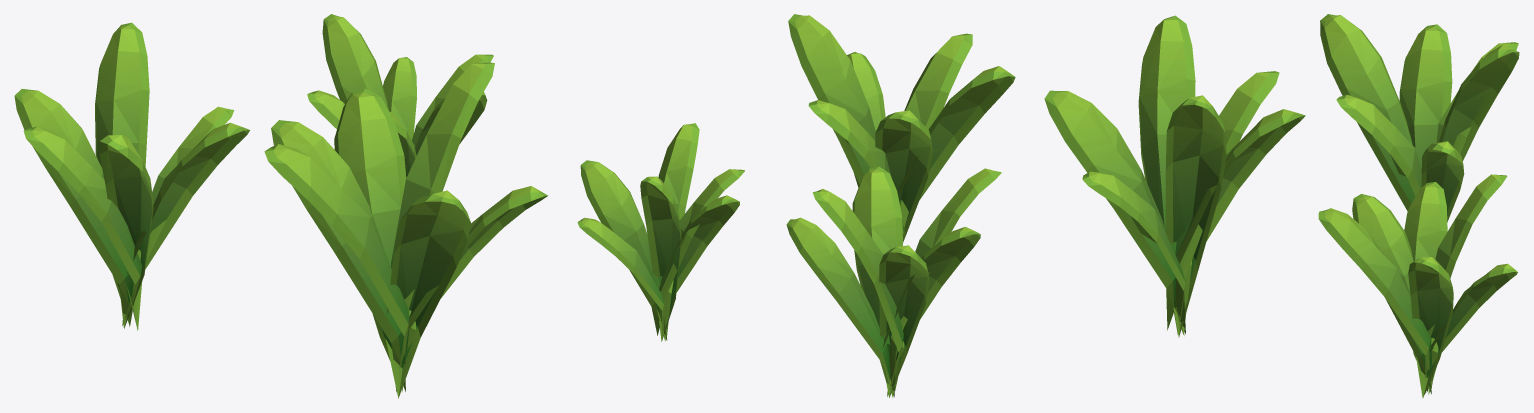
The model's file is crop_carrot_stage2.glb.
The picture shows the model from 3 angles, left to right: view 1: azimuth 30°, elevation 25°; view 2: azimuth 150°, elevation 25°; view 3: azimuth 270°, elevation 25°; orthographic projection. The views are drawn at different scales.
Visible parts, largest first — view 1: crop_carrot_stage2; view 2: crop_carrot_stage2; view 3: crop_carrot_stage2.
Part boxes in pixels (box(x1,y1,x2,y2)): crop_carrot_stage2: box(14, 14, 547, 398); crop_carrot_stage2: box(577, 14, 1015, 397); crop_carrot_stage2: box(1044, 14, 1519, 398).
Bounding box in the file's own units: 0.3912 × 0.24 × 0.3703.
1 material, 1 textured.
